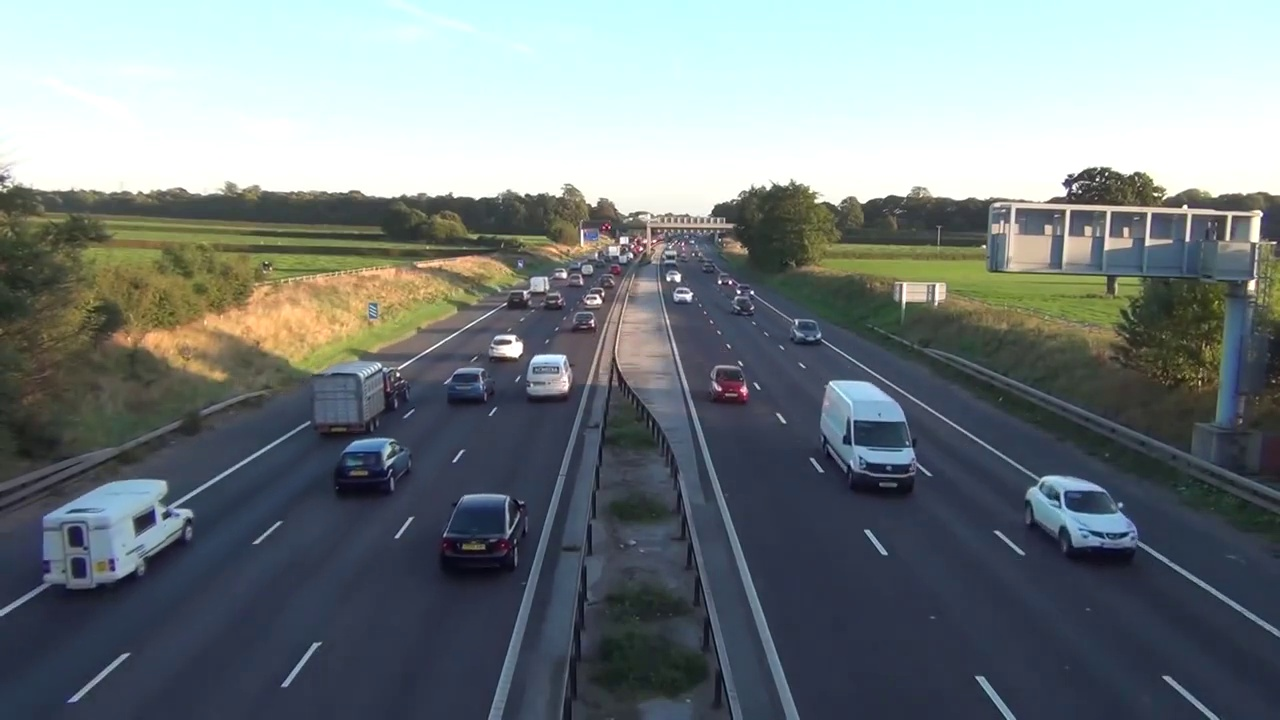bus: (42, 479, 194, 590), (819, 380, 917, 495), (1025, 475, 1138, 563), (439, 493, 528, 573), (334, 436, 412, 494), (525, 354, 574, 401), (445, 368, 495, 402), (709, 365, 748, 403), (383, 368, 411, 410), (488, 335, 524, 360), (789, 318, 822, 344), (573, 311, 597, 333), (731, 296, 755, 315), (508, 291, 532, 308), (543, 294, 566, 310), (673, 287, 693, 304), (582, 294, 604, 308), (735, 284, 755, 297), (717, 274, 733, 286), (666, 271, 681, 282)
